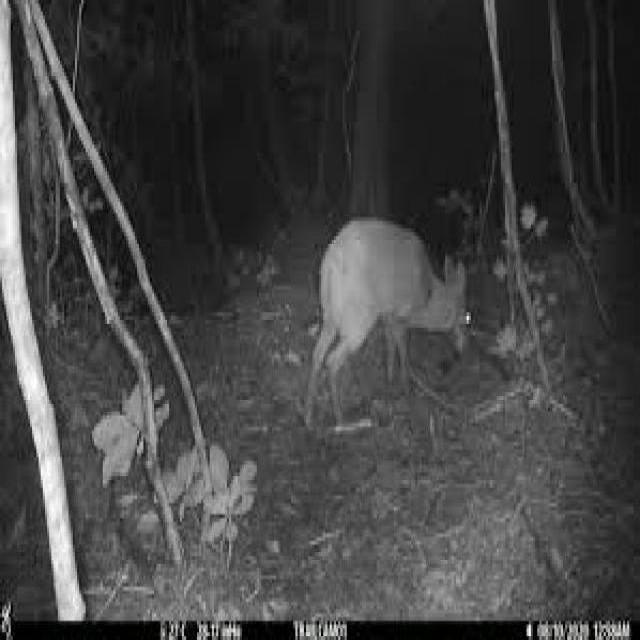deer: (295, 196, 479, 472)
